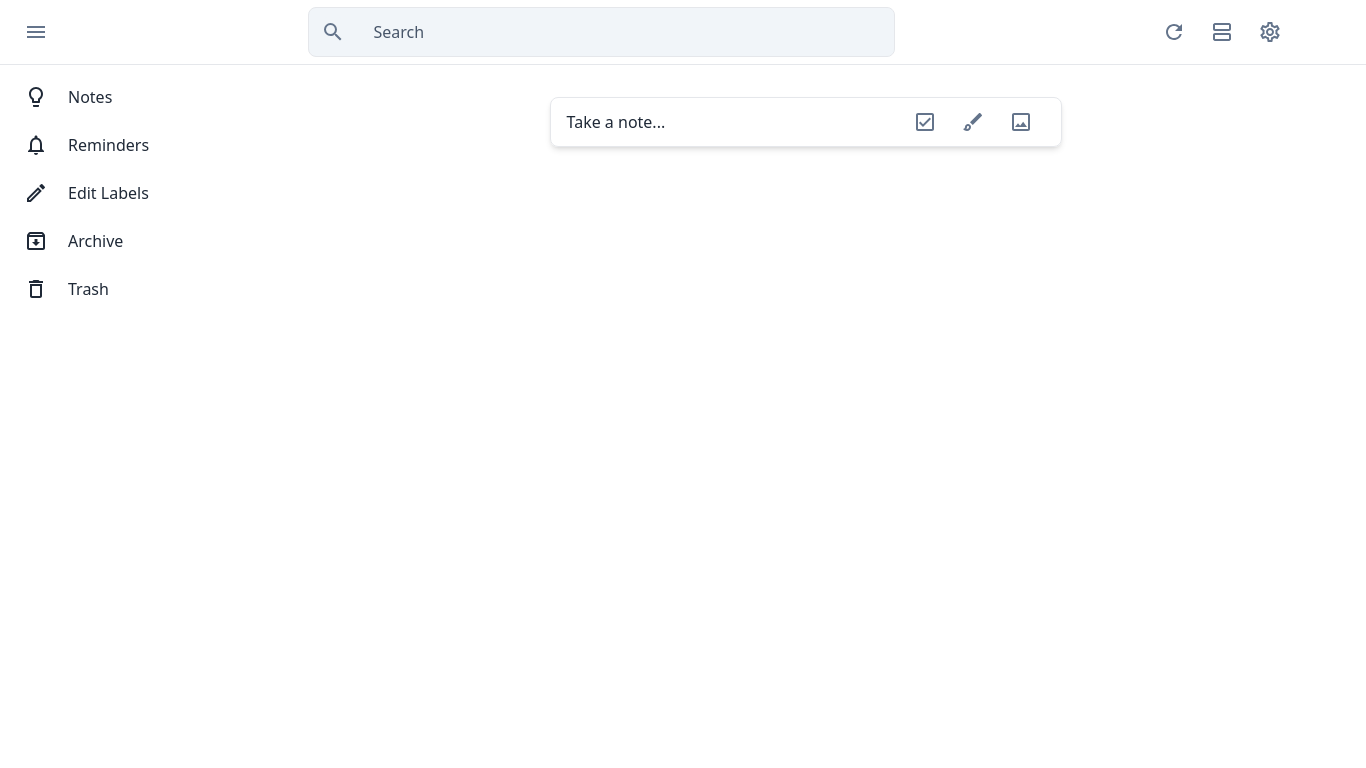
Test: note editing › user edits the title of a note
The width and height of the screenshot is (1366, 768).
# make a new note
Click the text "Take a note...": [616, 122] box [566, 111, 665, 133]
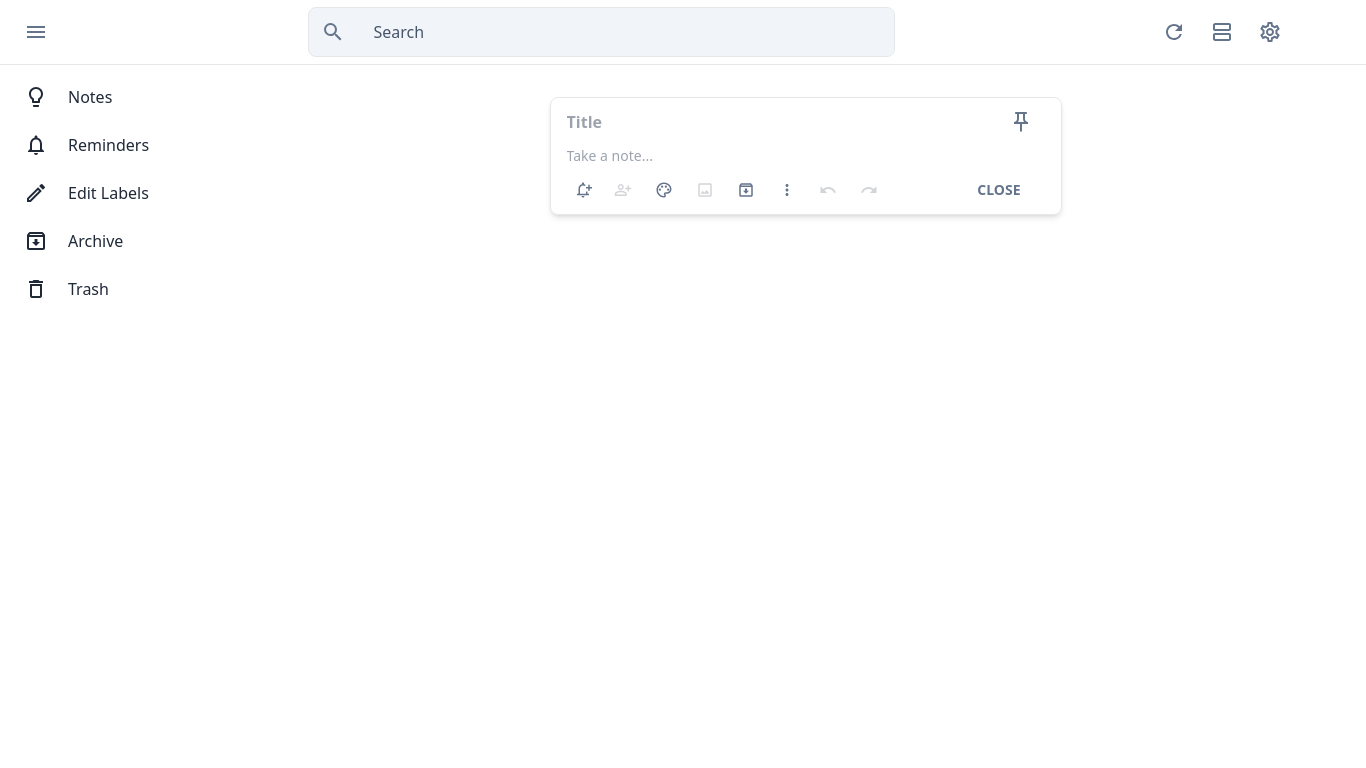
In the field with placeholder "Title": [782, 122] box [566, 98, 996, 146], type "This is a test title"
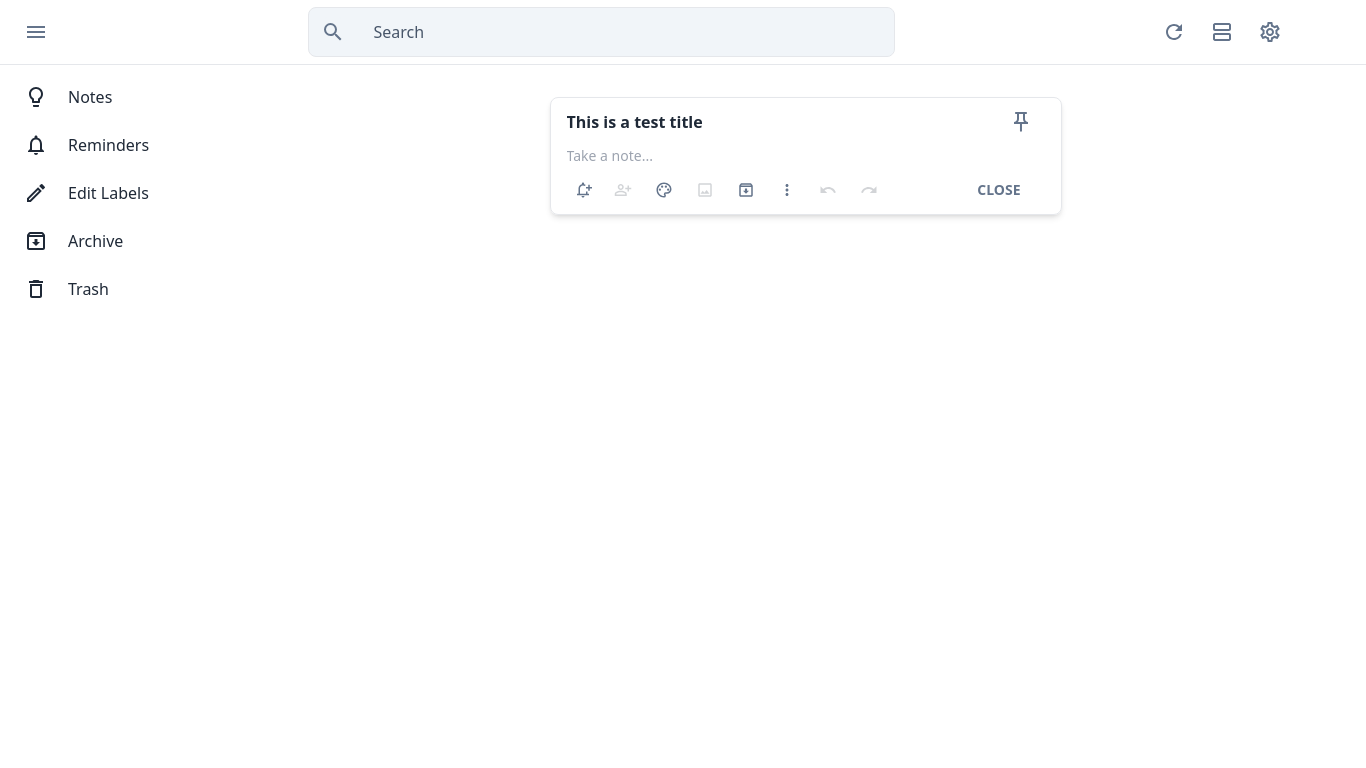
Click the button "Close": [999, 190] box [953, 174, 1045, 206]
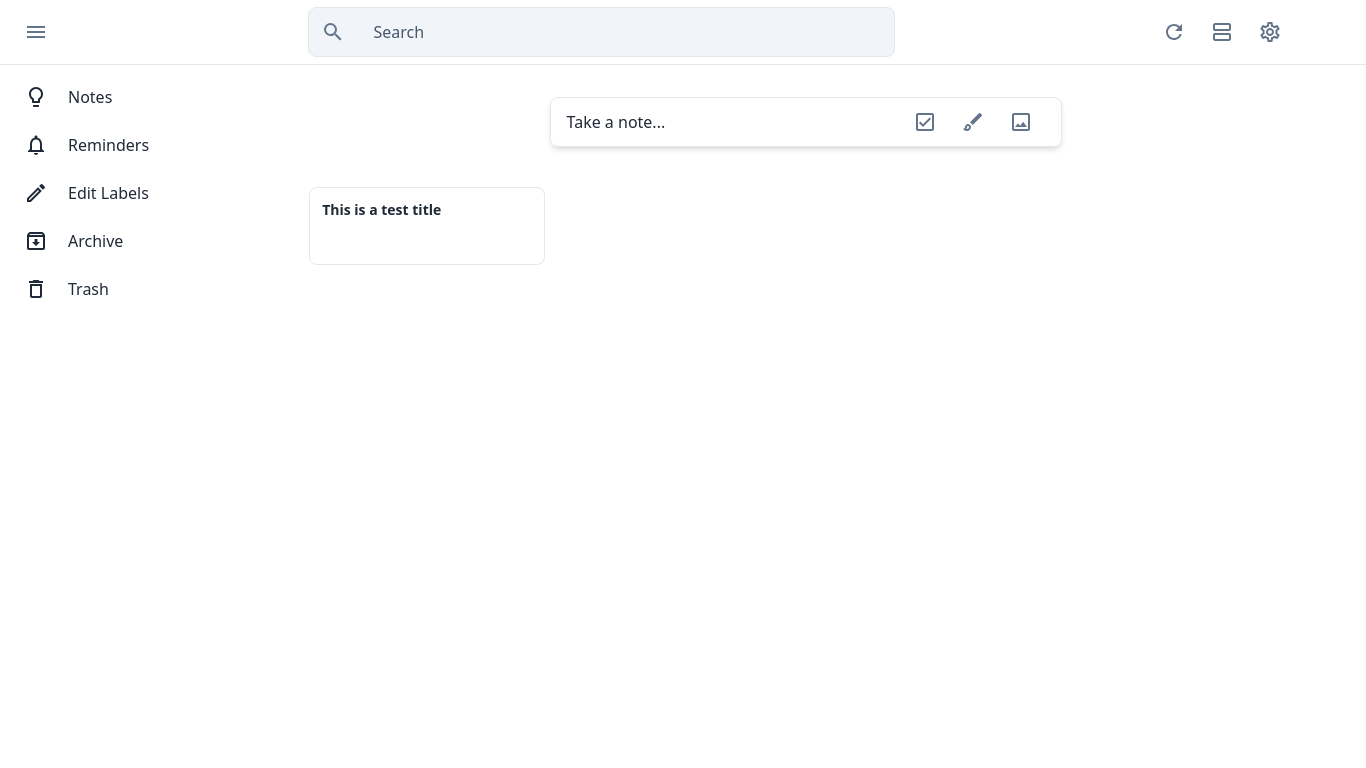
Expected: the text "This is a test title" is shown
Click the text "This is a test title": [382, 210] box [322, 200, 441, 219]
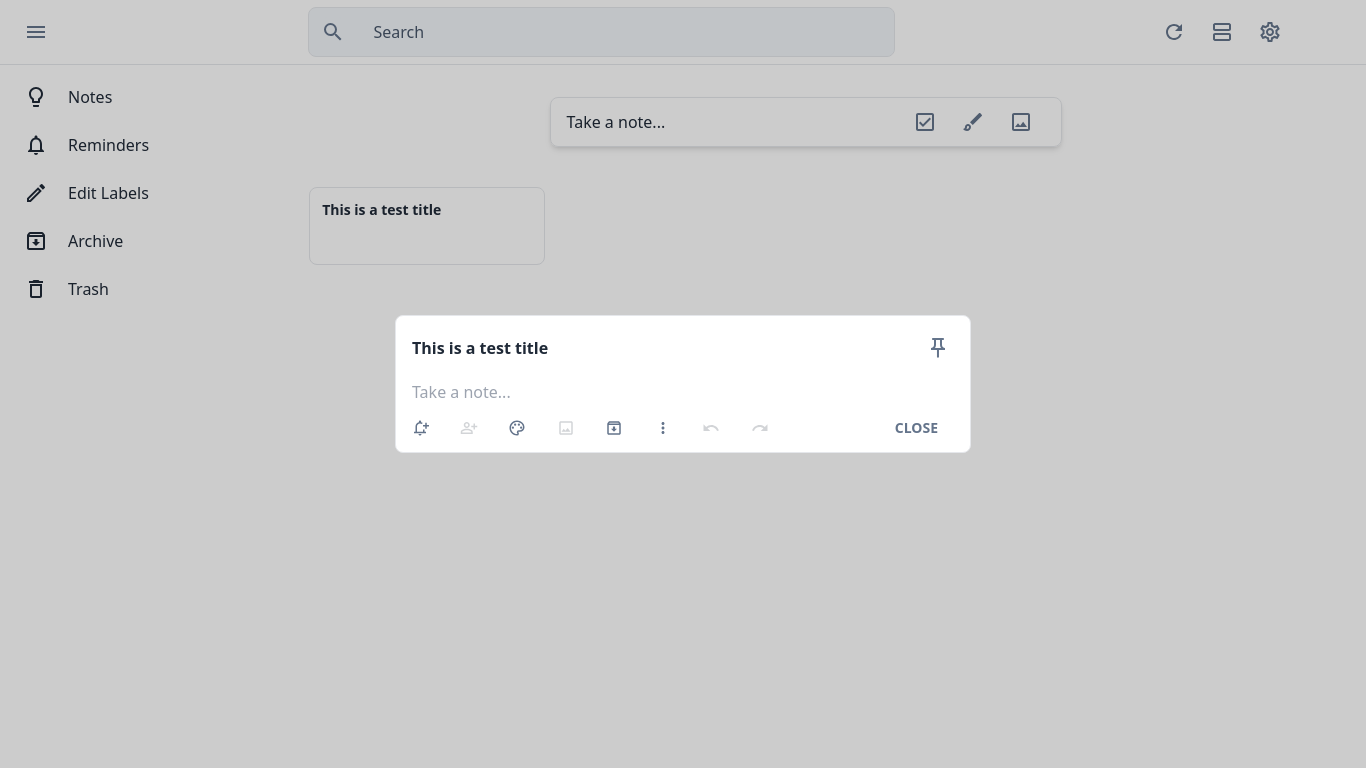
# editing the note
In the field named "Note Title": [659, 348] box [404, 324, 914, 372], type " edited"
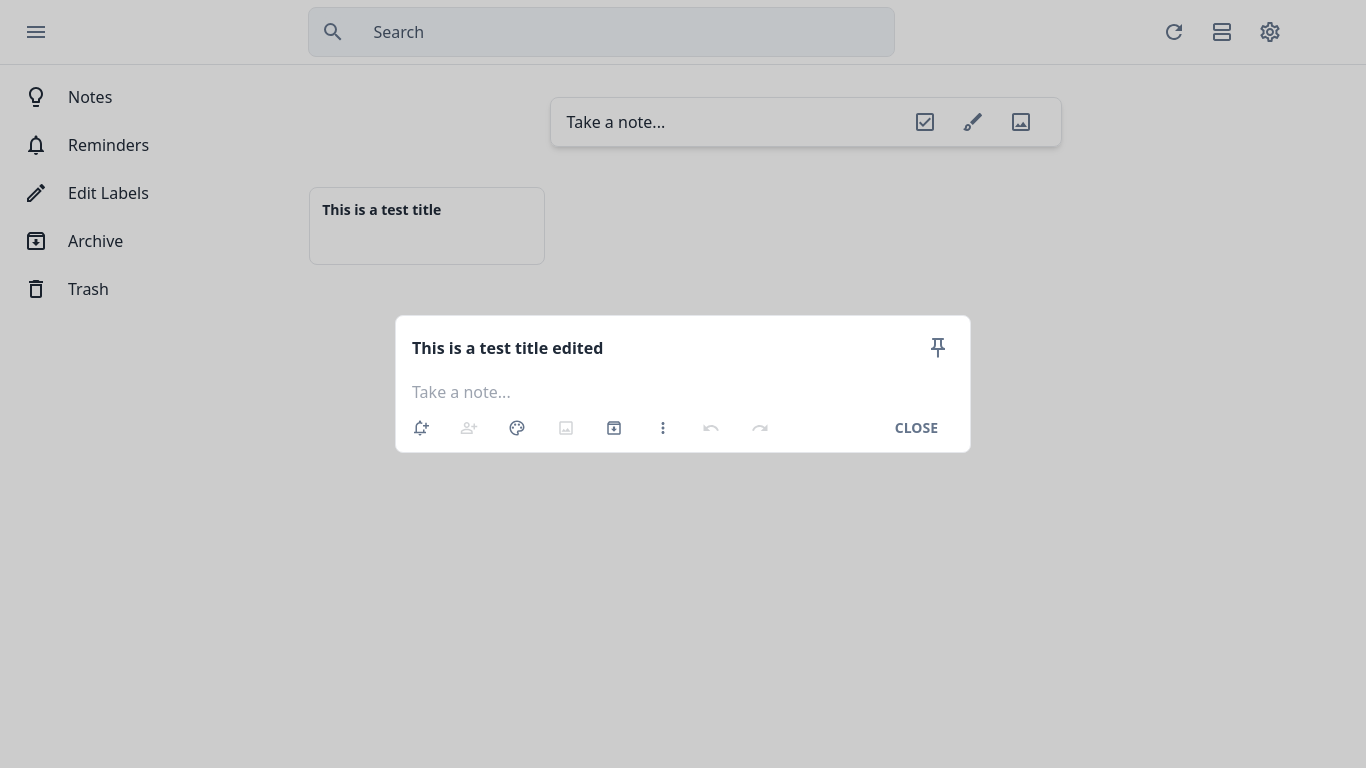
Expected: the field named "Note Title" holds "This is a test title edited", [404, 324, 914, 372]
Click the button "Close": [916, 428] box [871, 412, 962, 444]
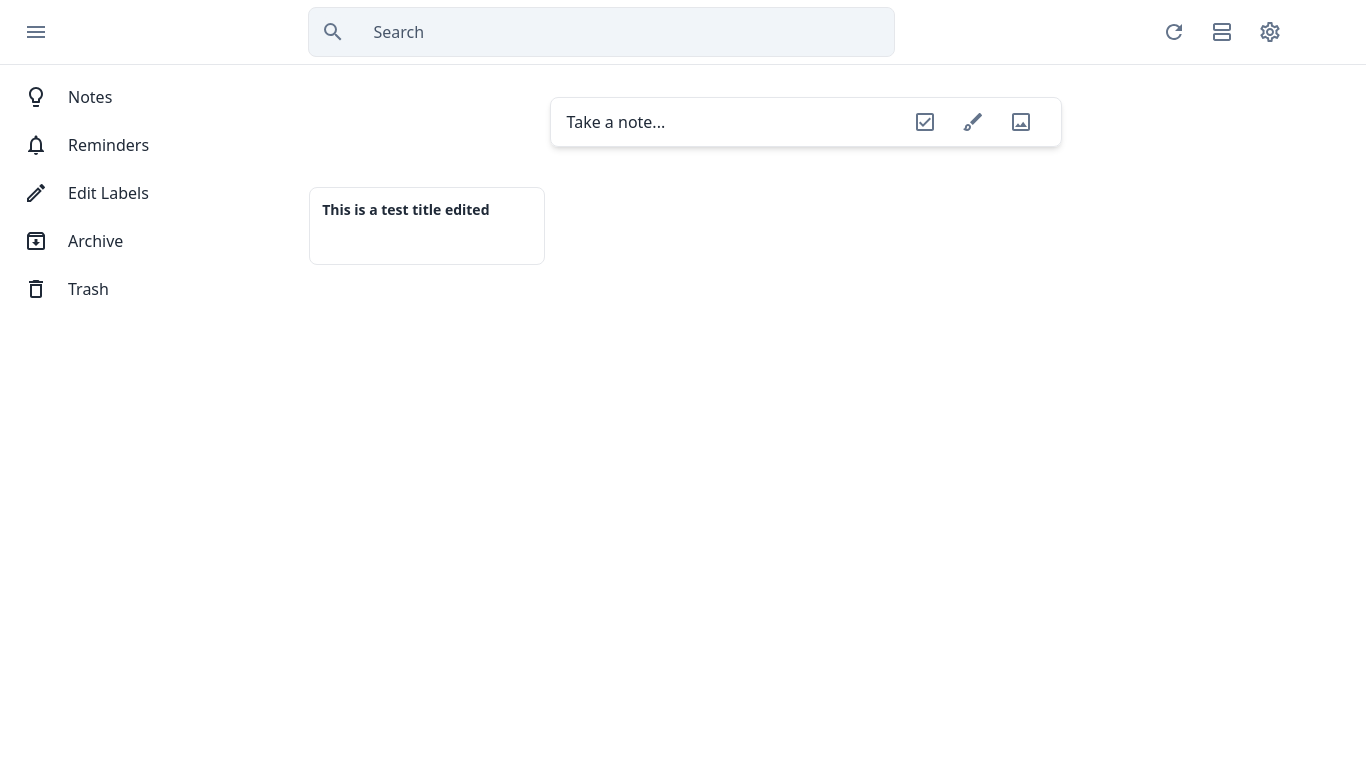
Expected: the text "This is a test title edited" is shown, [322, 200, 490, 219]
